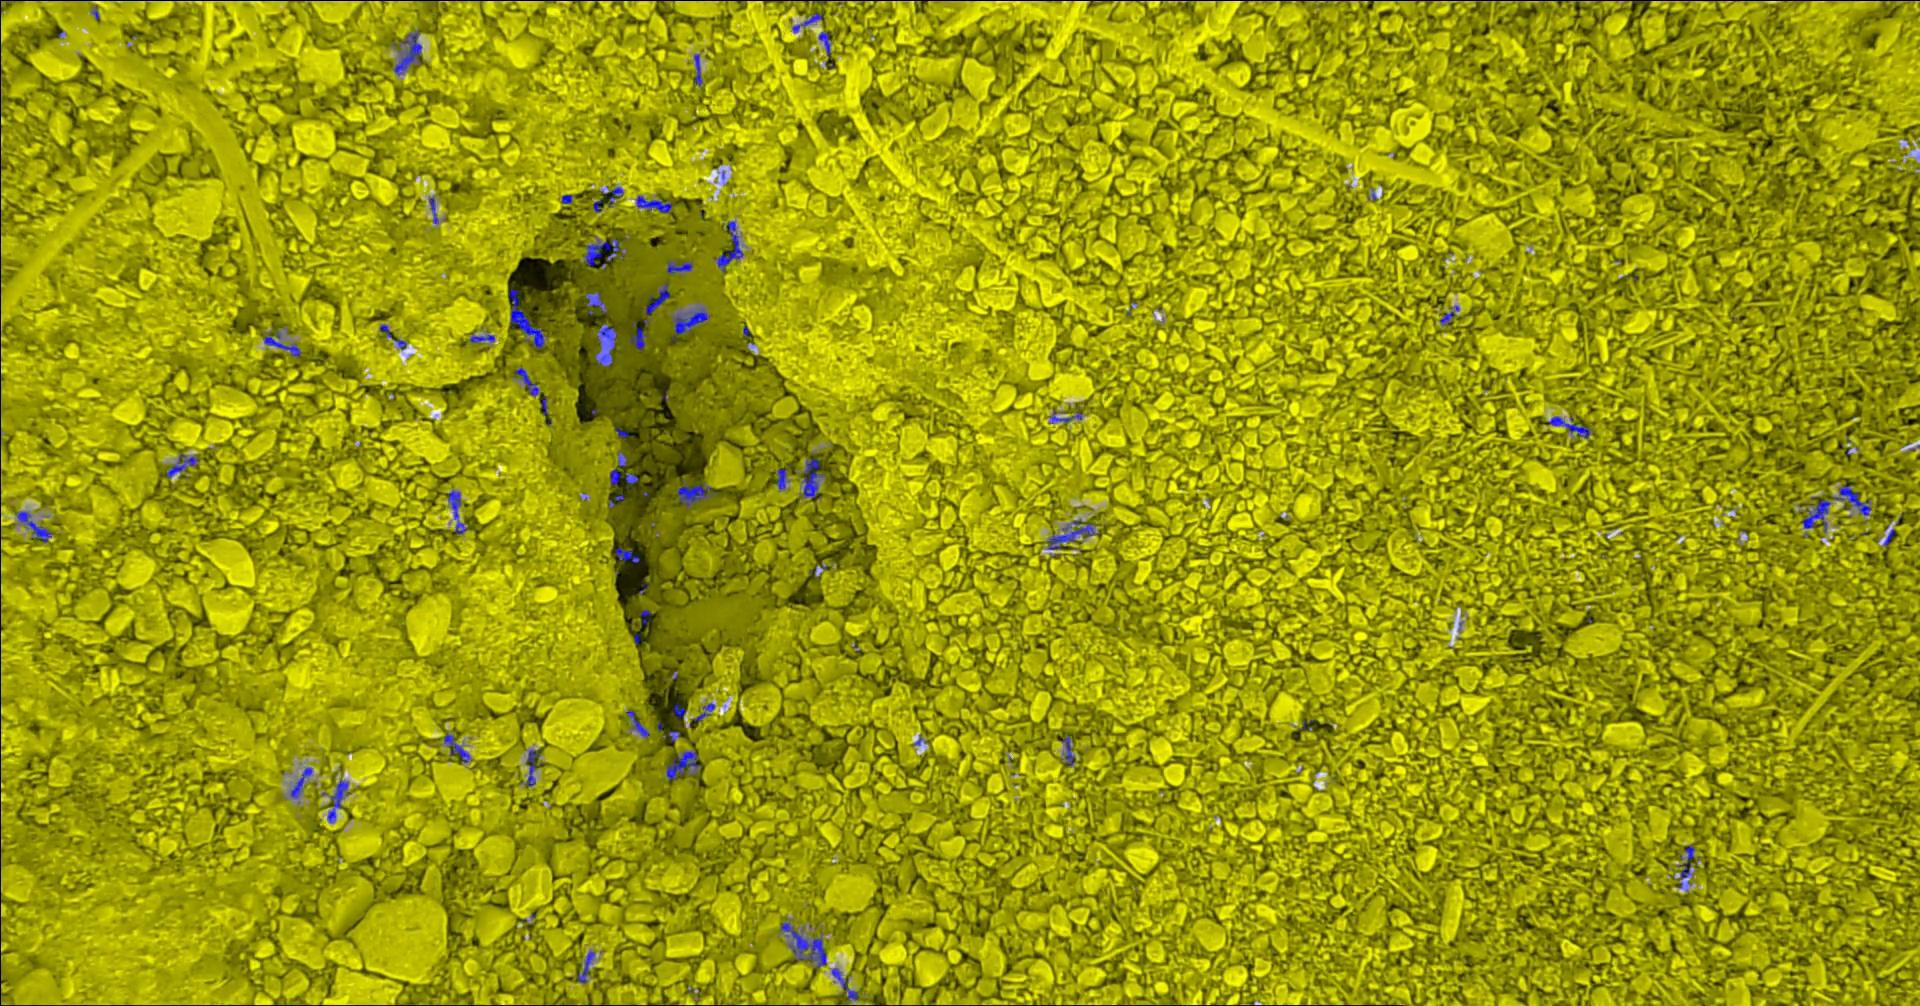ant: (780, 922, 825, 968), (508, 288, 543, 347), (714, 221, 743, 271), (1046, 520, 1095, 549), (392, 29, 422, 75), (670, 307, 709, 340), (583, 238, 623, 265), (15, 511, 51, 542), (1832, 485, 1870, 514), (263, 329, 300, 357), (665, 749, 698, 779), (610, 452, 637, 486), (676, 481, 715, 506), (1547, 417, 1590, 438), (1677, 843, 1699, 887), (830, 967, 858, 1000), (1802, 499, 1830, 531), (596, 323, 616, 366), (328, 779, 348, 822), (801, 459, 823, 498), (447, 490, 466, 533), (443, 733, 471, 762), (644, 282, 669, 314), (165, 453, 198, 478), (290, 767, 312, 798), (521, 749, 538, 786), (516, 367, 538, 395), (636, 196, 672, 213), (792, 11, 822, 32), (577, 950, 594, 983), (626, 710, 649, 735), (584, 292, 607, 314), (599, 185, 623, 206), (629, 326, 648, 349), (1062, 735, 1076, 766), (1439, 305, 1459, 324), (1050, 410, 1081, 423), (693, 702, 714, 721), (665, 259, 692, 273), (615, 547, 639, 561), (818, 30, 830, 55), (428, 196, 438, 224), (693, 53, 701, 86), (775, 467, 786, 489), (469, 333, 494, 342), (672, 702, 684, 719)
